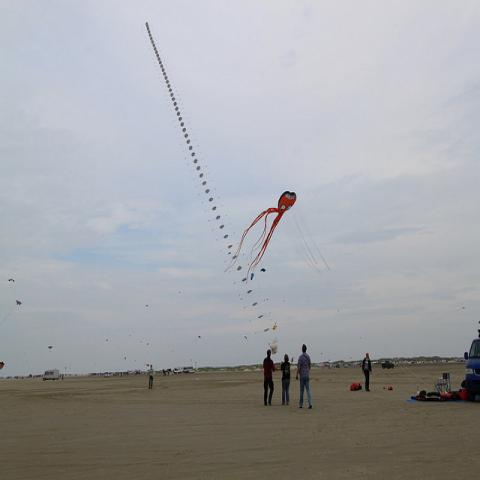car: (464, 337, 480, 404), (42, 368, 59, 382), (382, 360, 394, 370), (334, 363, 341, 367), (188, 369, 195, 373), (344, 364, 348, 368)
